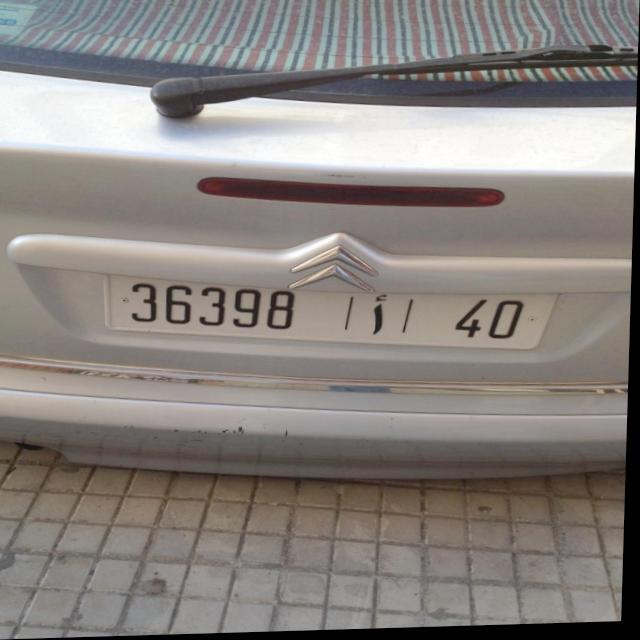License-Plate: (107, 276, 559, 353)
